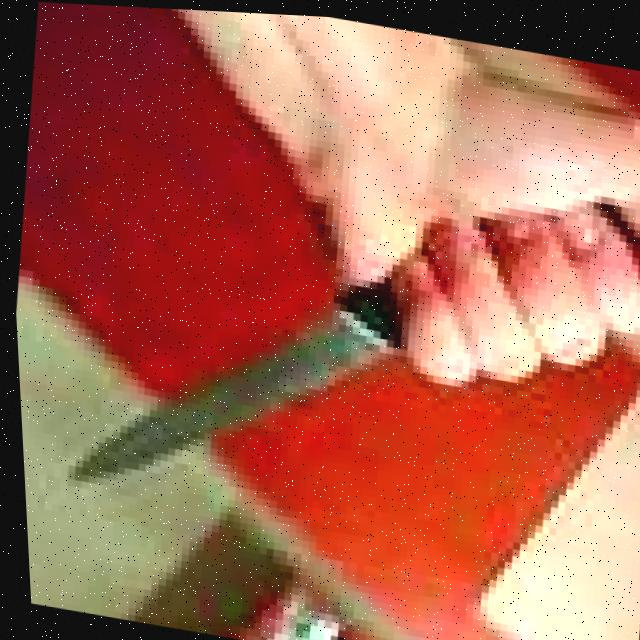knife: (49, 230, 411, 535)
